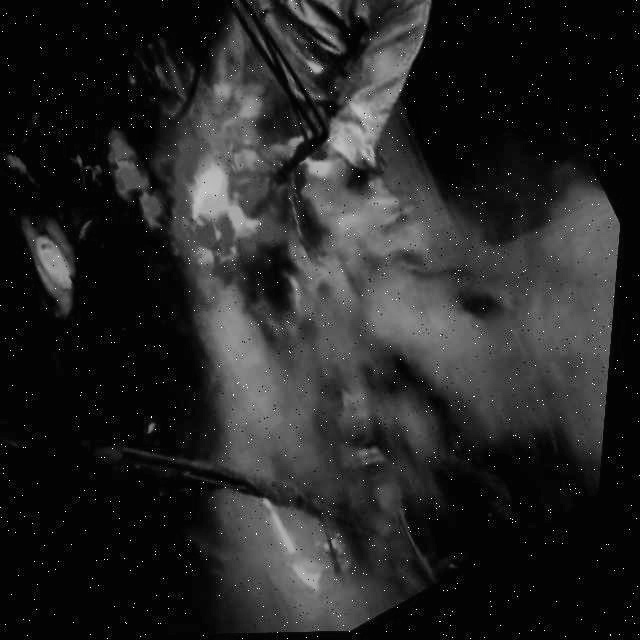Fire: (84, 16, 406, 314)
Smoke: (168, 103, 633, 636)
